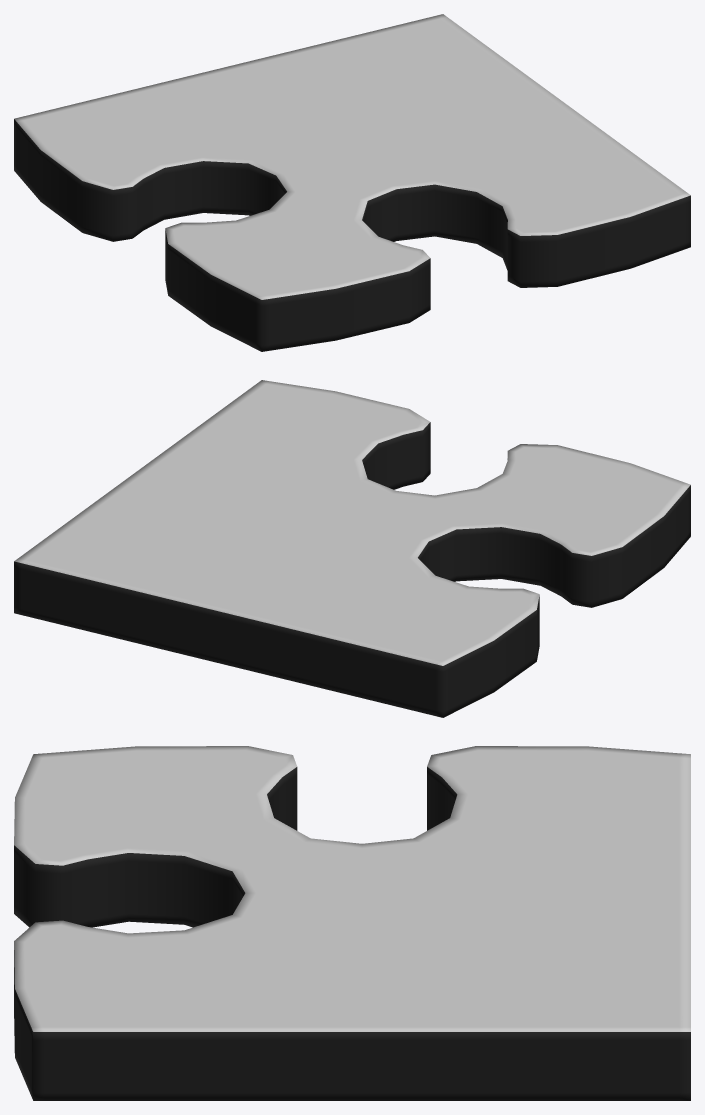
3 renders of one model, top to bottom at view 1: azimuth 30°, elevation 25°; view 2: azimuth 150°, elevation 25°; view 3: azimuth 270°, elevation 25°, orthographic. The views are drawn at different scales.
Visible parts, largest first — view 1: puzzle03; view 2: puzzle03; view 3: puzzle03.
Part boxes in pixels (x1=…): puzzle03: x1=14, y1=14, x2=690, y2=351; puzzle03: x1=14, y1=380, x2=690, y2=717; puzzle03: x1=14, y1=746, x2=690, y2=1100.
Size of the model in its own units: 3.07 by 0.344 by 3.07.
